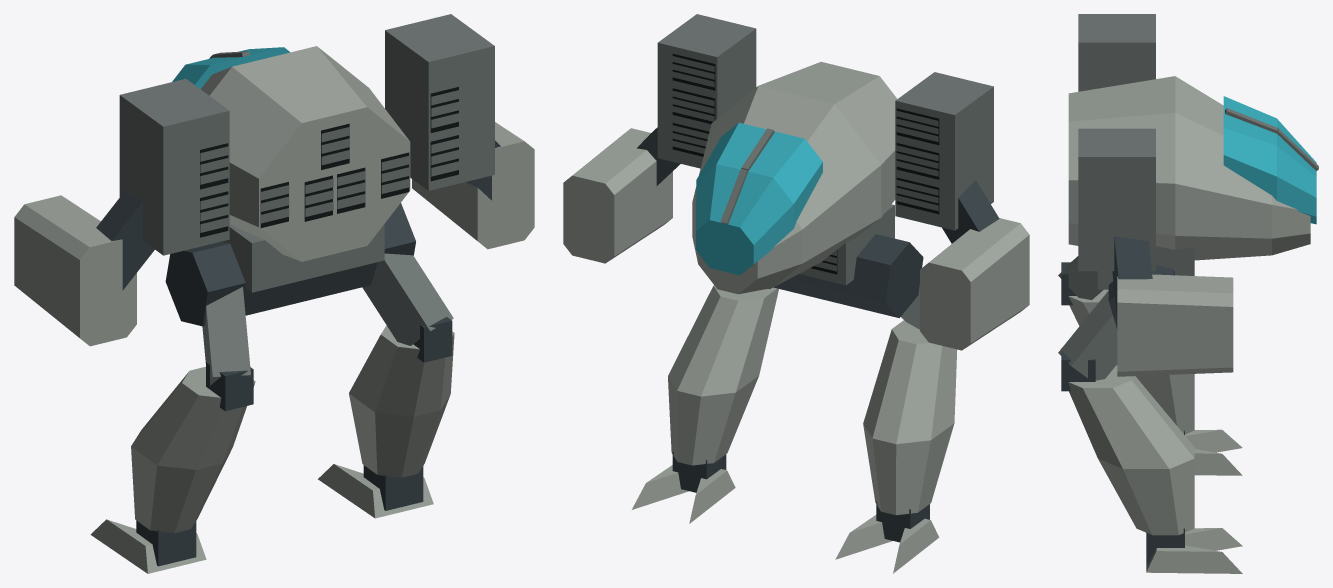
File: mad-cat.glb
3 views of the same model, side by side, from view 1: azimuth 30°, elevation 25°; view 2: azimuth 150°, elevation 25°; view 3: azimuth 270°, elevation 25° (orthographic). The views are drawn at different scales.
Parts seen in each view (by area): view 1: LT, RT, LL-shin, CT, RL-shin, LA@elbow, pelvis, RA@elbow, LA@forearm, RL, LL, LA (+13 smaller); view 2: LT, LL-shin, RL-shin, HD, RT, RA@forearm, LA@forearm, CT, pelvis, LA@elbow, RA@elbow, LL-foot (+9 smaller); view 3: RT, RL-shin, RA@forearm, HD, LT, RA@elbow, CT, LL-shin, RL-foot, RL, LL-foot, RA (+2 smaller).
Part boxes in pixels (box(x1,y1,x2,y2)): LT: box(119, 65, 298, 292); RT: box(310, 14, 494, 267); LL-shin: box(131, 361, 255, 566); CT: box(211, 47, 370, 285); RL-shin: box(349, 317, 454, 510); LA@elbow: box(47, 217, 136, 346); pelvis: box(165, 203, 415, 326); RA@elbow: box(445, 122, 534, 249); LA@forearm: box(14, 195, 114, 337); RL: box(362, 253, 453, 345); LL: box(202, 287, 250, 385); LA: box(96, 193, 154, 290); LT: box(762, 72, 993, 285); LL-shin: box(863, 320, 957, 542); RL-shin: box(668, 285, 778, 492); HD: box(696, 122, 822, 275); RT: box(657, 14, 797, 260); RA@forearm: box(563, 128, 672, 263); LA@forearm: box(920, 219, 1029, 350); CT: box(697, 61, 882, 294); pelvis: box(773, 234, 923, 318); LA@elbow: box(958, 218, 1029, 330); RA@elbow: box(602, 128, 672, 243); LL-foot: box(835, 515, 939, 573); RT: box(1068, 110, 1306, 289); RL-shin: box(1061, 348, 1194, 563); RA@forearm: box(1117, 275, 1233, 376); HD: box(1223, 96, 1318, 224); LT: box(1078, 14, 1215, 100); RA@elbow: box(1117, 274, 1175, 376); CT: box(1068, 79, 1310, 258); LL-shin: box(1061, 262, 1194, 434); RL-foot: box(1146, 528, 1242, 573); RL: box(1058, 291, 1117, 380); LL-foot: box(1185, 429, 1242, 475); RA: box(1112, 236, 1152, 319).
Size of the model in its own units: 49.39 by 49.91 by 27.75.
